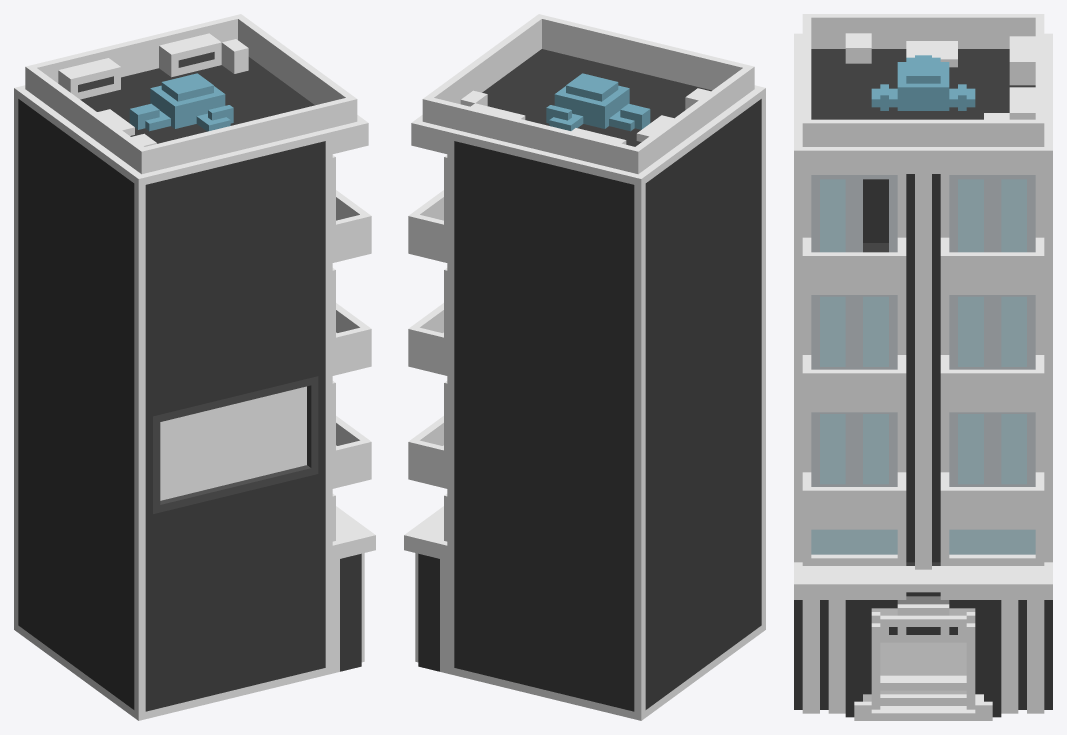
The model's file is Menu_Build_Off.obj.
The picture shows the model from 3 angles, left to right: view 1: azimuth 30°, elevation 25°; view 2: azimuth 150°, elevation 25°; view 3: azimuth 270°, elevation 25°; orthographic projection. The views are drawn at different scales.
Size of the model in its own units: 34 by 75 by 30.
Materials: 1 (1 with a texture image).
